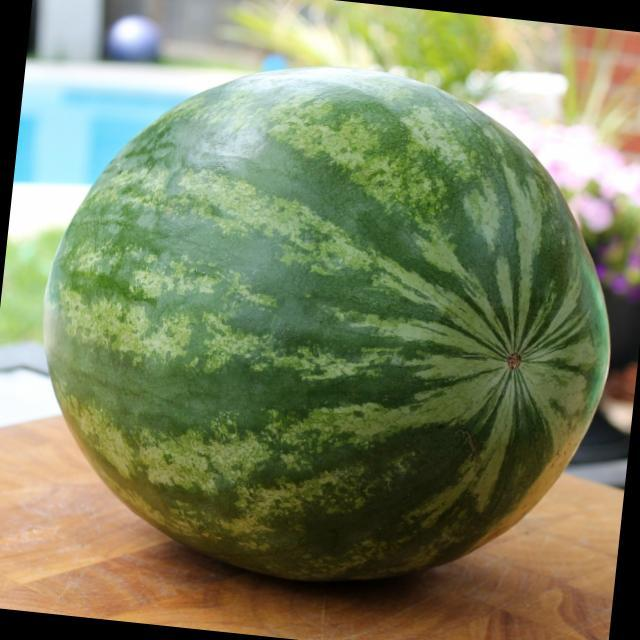WATERMELON: (21, 38, 636, 614)
